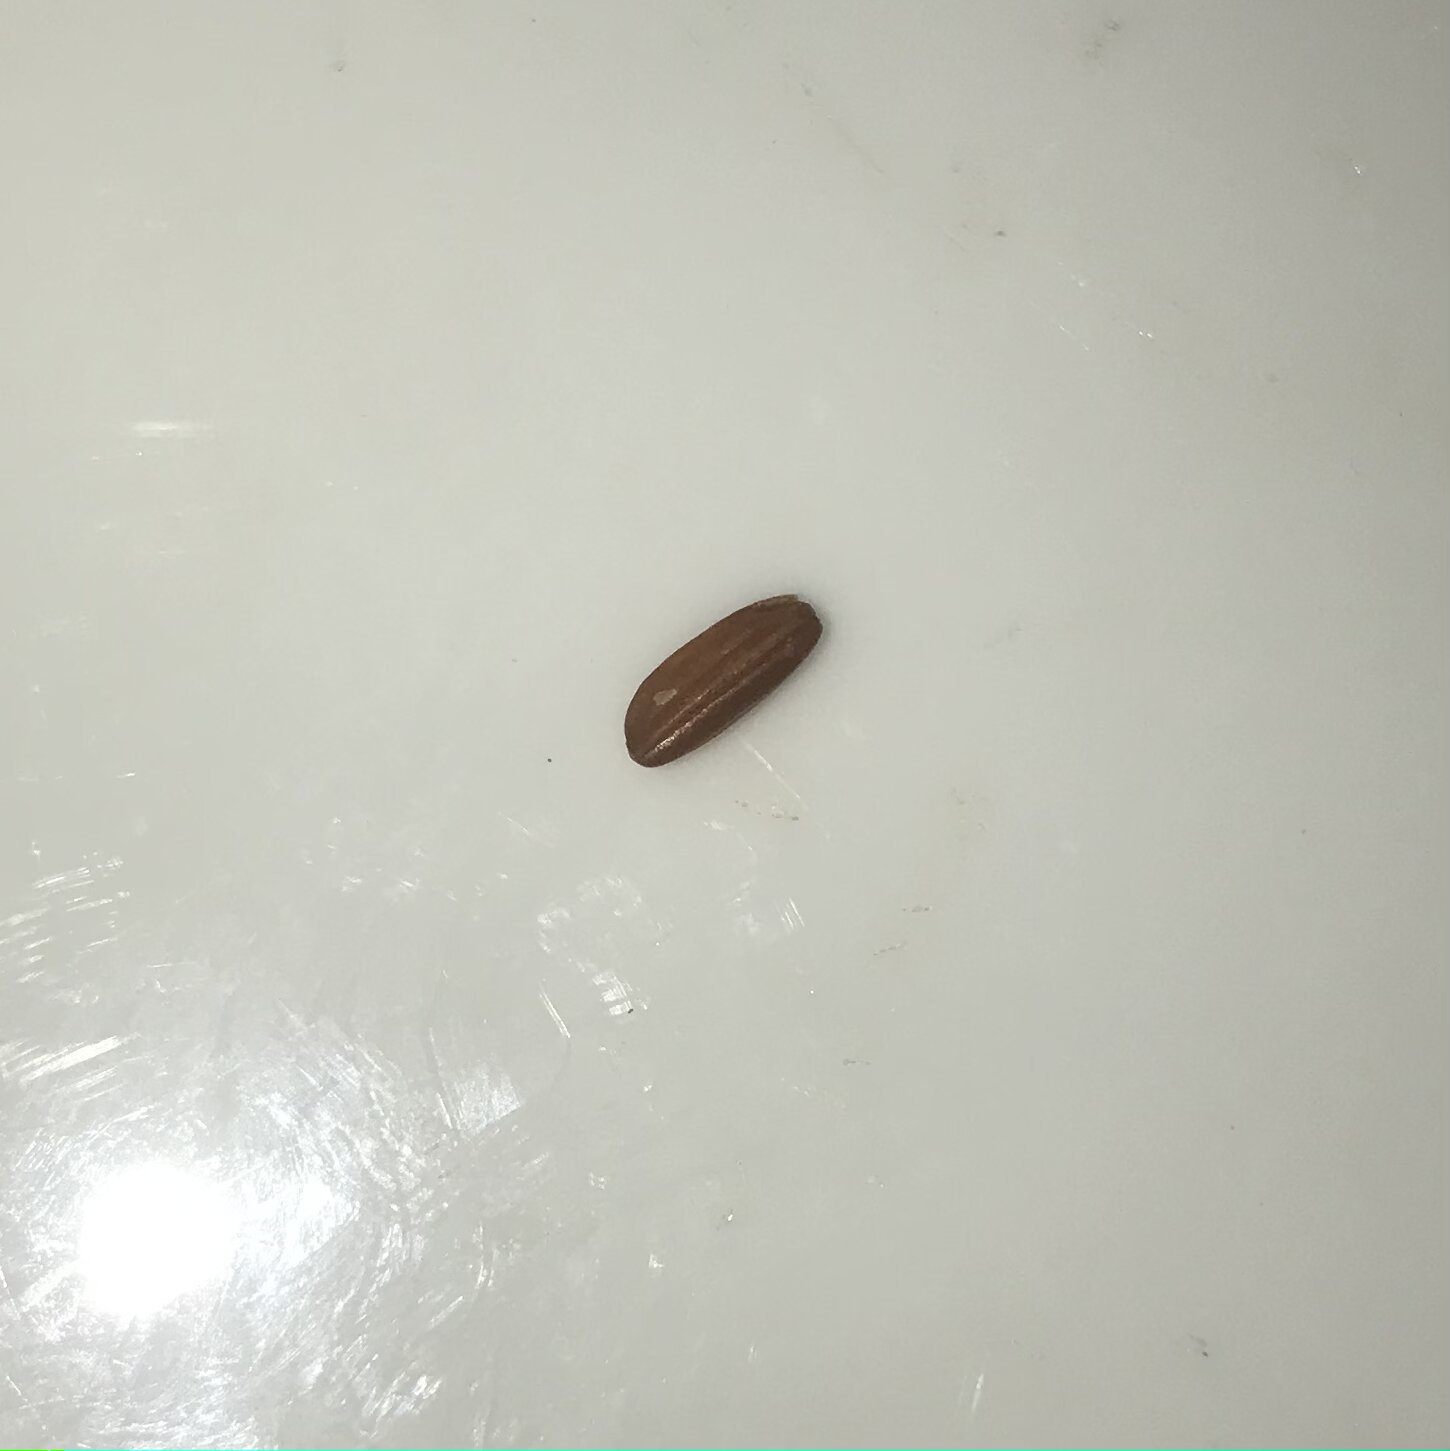Gao Huyet Rong: (616, 585, 833, 777)
